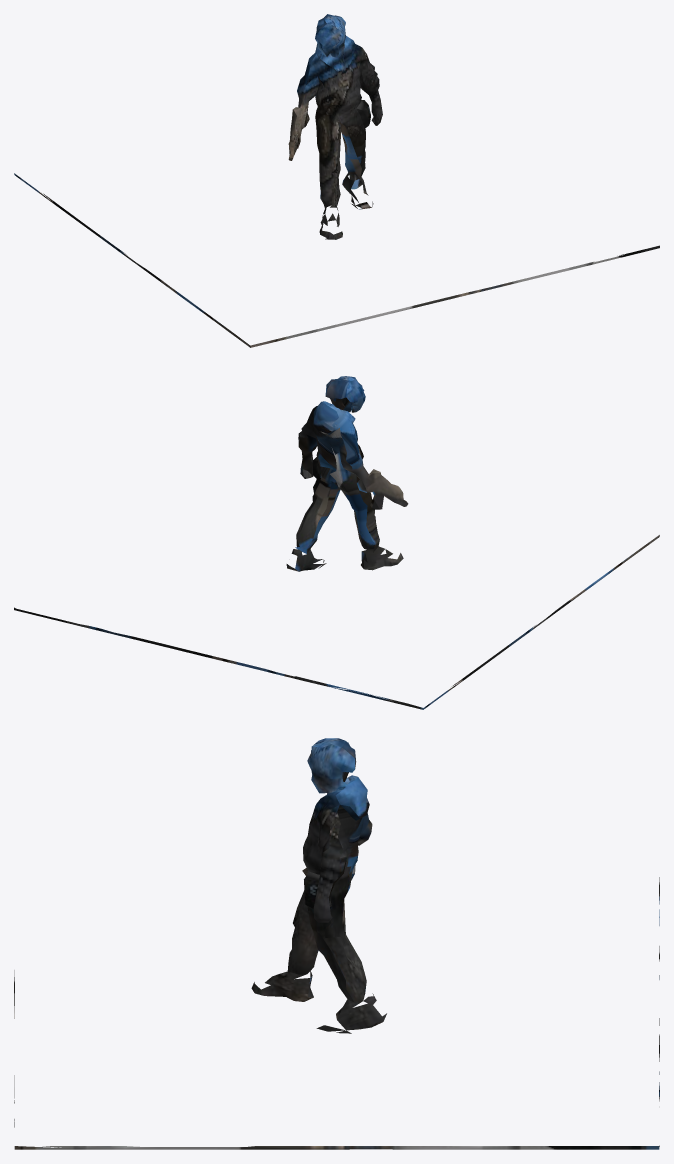
The model's file is scout.glb.
3 renders of one model, top to bottom at view 1: azimuth 30°, elevation 25°; view 2: azimuth 150°, elevation 25°; view 3: azimuth 270°, elevation 25°, orthographic. The views are drawn at different scales.
Bounding box in the file's own units: 1.99 × 0.912 × 1.99.
1 material, 1 textured.
